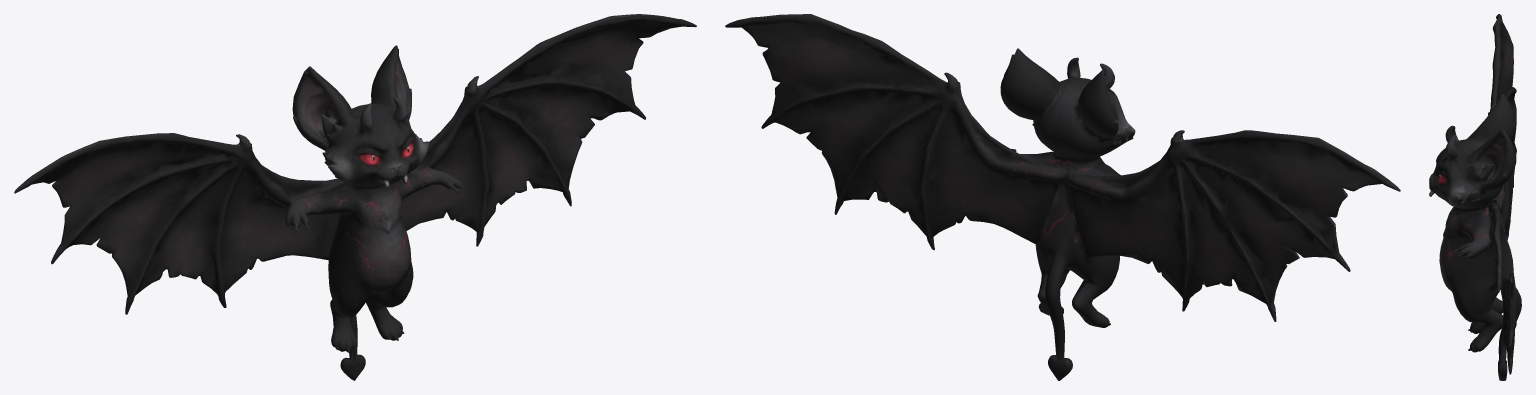
Rendered from ryuk-voando.glb.
3 views of the same model, side by side, from view 1: azimuth 30°, elevation 25°; view 2: azimuth 150°, elevation 25°; view 3: azimuth 270°, elevation 25° (orthographic). The views are drawn at different scales.
Bounding box in the file's own units: 1.9 × 0.8645 × 0.2699.
1 material, 1 textured.
